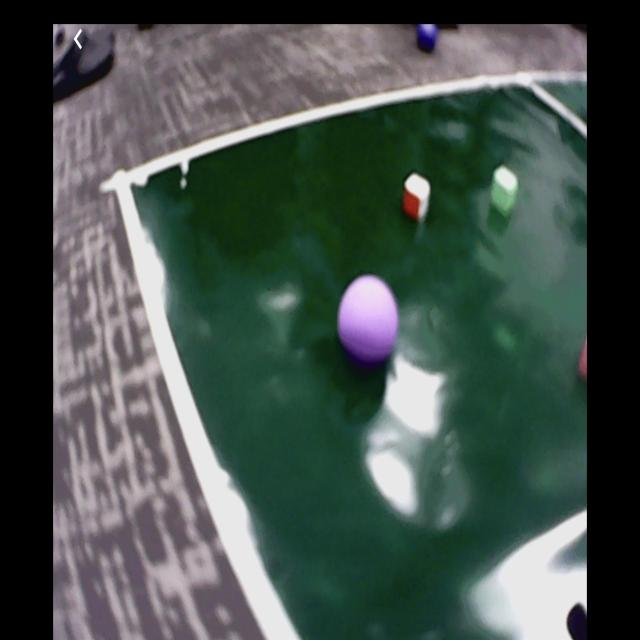ball: (338, 276, 398, 357), (416, 24, 437, 50)
